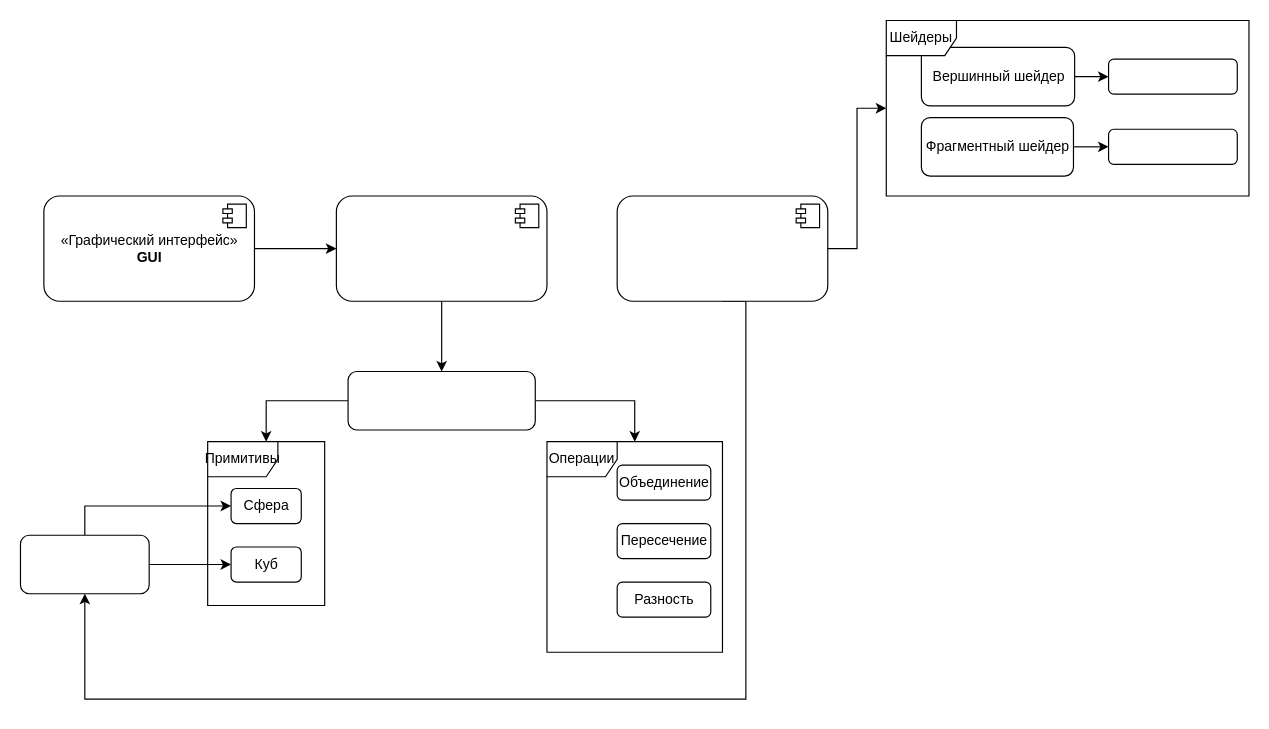
This 1269x729 diagram has some shape labels left out. Here are the shapes that lost their labels. From the top down, the centre of each, then its label:
At point 1172,76: "Камера".
At point 1172,146: "Освещение".
At point 441,248: "«Моделирование объекта» Processing".
At point 722,248: "«Визуализация» Rendering".
At point 441,400: "Единица моделирования".
At point 84,564: "SDF".
